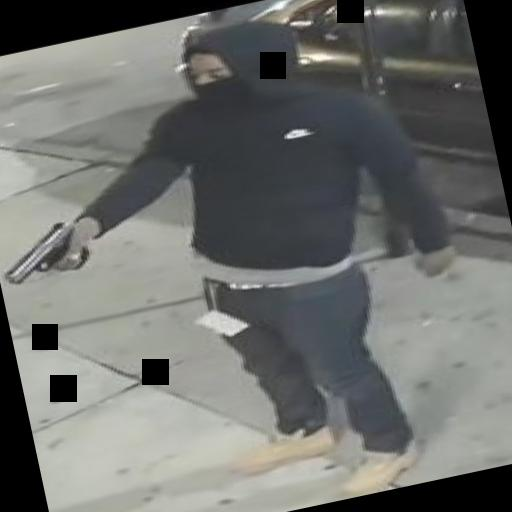Handgun: (0, 215, 97, 284)
